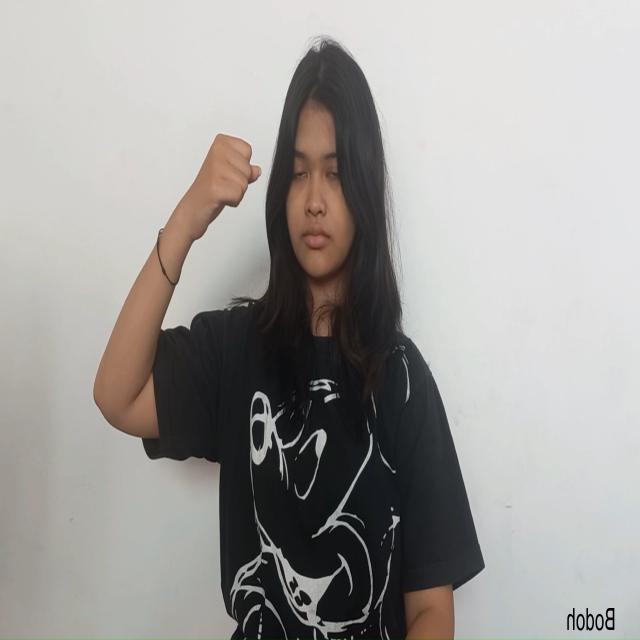Bodoh -BISINDO-: (186, 129, 263, 246)
